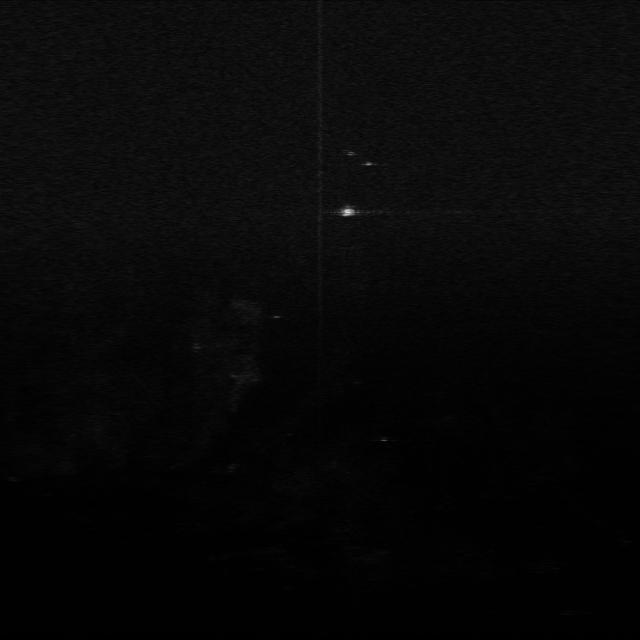rov: (337, 204, 362, 222)
